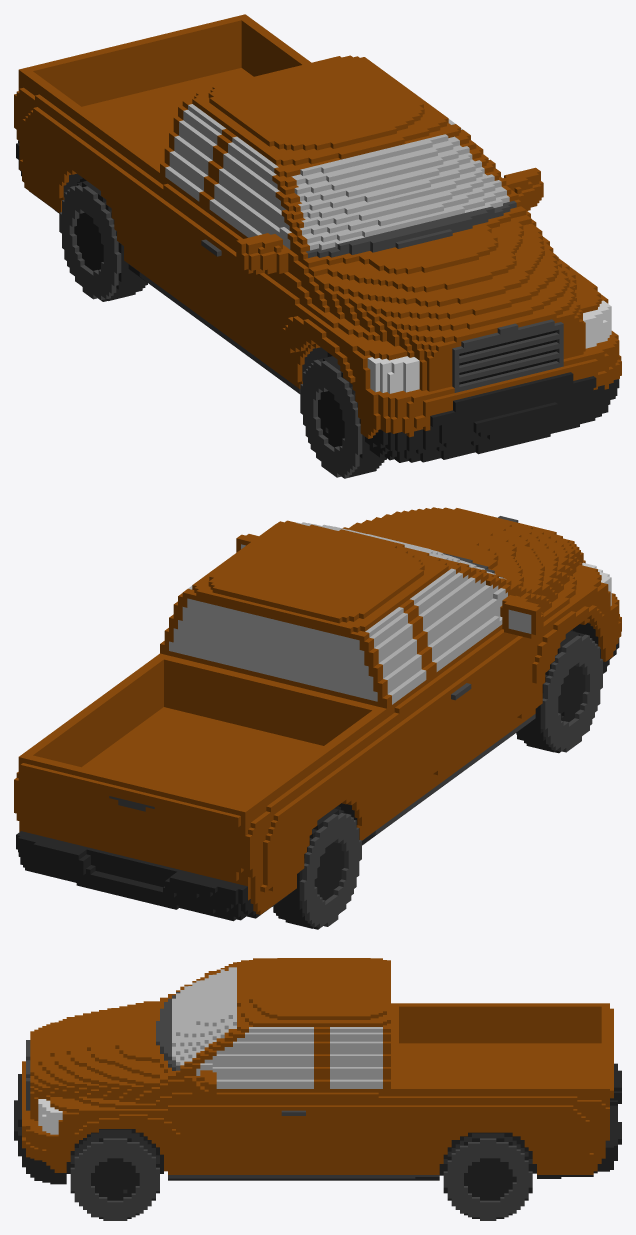
Rendered from npc-pickup2.obj.
The picture shows the model from 3 angles, top to bottom: view 1: azimuth 30°, elevation 25°; view 2: azimuth 150°, elevation 25°; view 3: azimuth 270°, elevation 25°; orthographic projection. The views are drawn at different scales.
Parts seen in each view (by area): view 1: PickupRAM; view 2: PickupRAM; view 3: PickupRAM.
Boxes of the visible parts, x1,y1,x2,y2 form: PickupRAM: (14,14,621,478); PickupRAM: (14,507,621,929); PickupRAM: (14,958,621,1220).
Size of the model in its own units: 6.6 by 5.1 by 15.
1 material, 1 textured.
